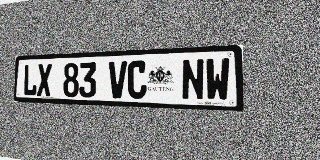3: (79, 62, 96, 98)
8: (63, 63, 79, 97)
C: (127, 60, 147, 99)
L: (23, 64, 37, 96)
N: (181, 58, 204, 101)
V: (108, 61, 127, 99)
W: (205, 58, 230, 101)
X: (37, 63, 52, 97)
